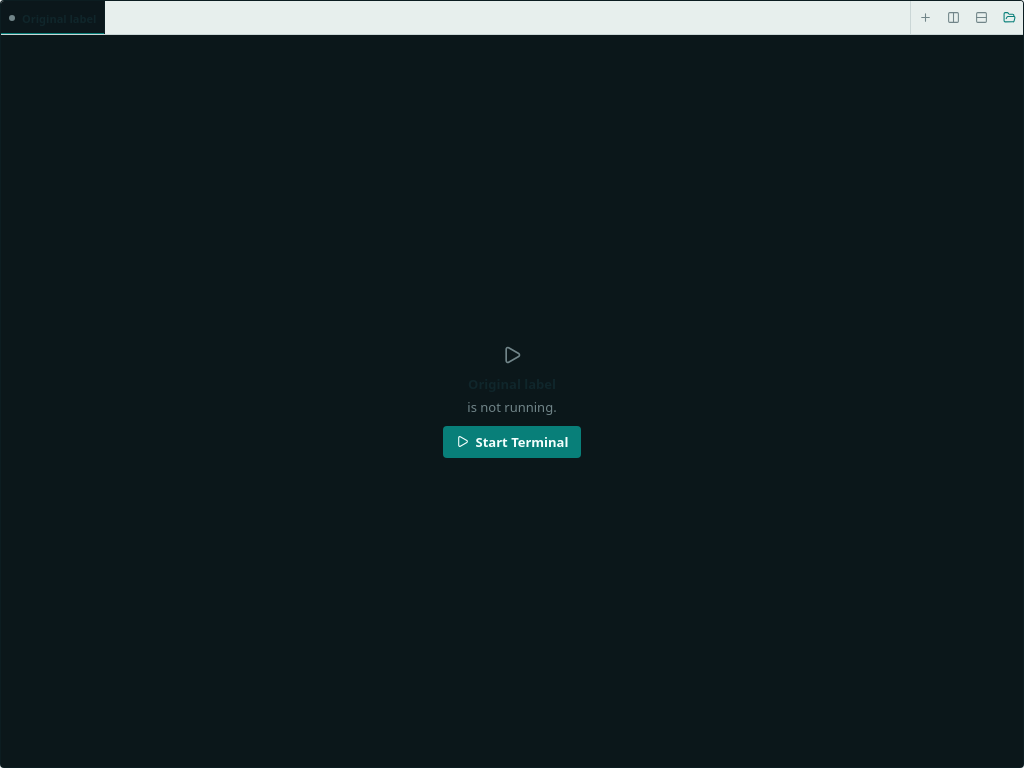
Test: TerminalPane › opens first-run launcher setup with File Explorer selected
Click the button named "Open working directory": coordinates (1009, 18) [995, 1, 1023, 34]
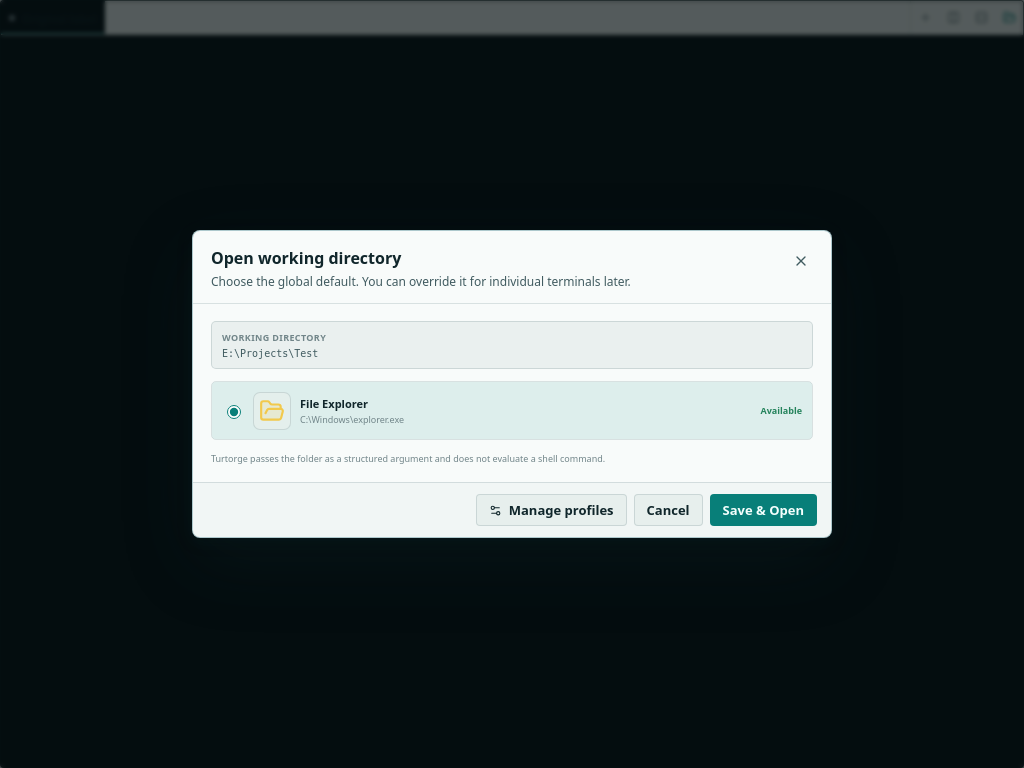
Expected: the dialog shows "Open working directory", [211, 247, 401, 269]
Expected: the radio button labelled "File Explorer C:\\Windows\\explorer.exe Available" is checked, [227, 405, 241, 419]
